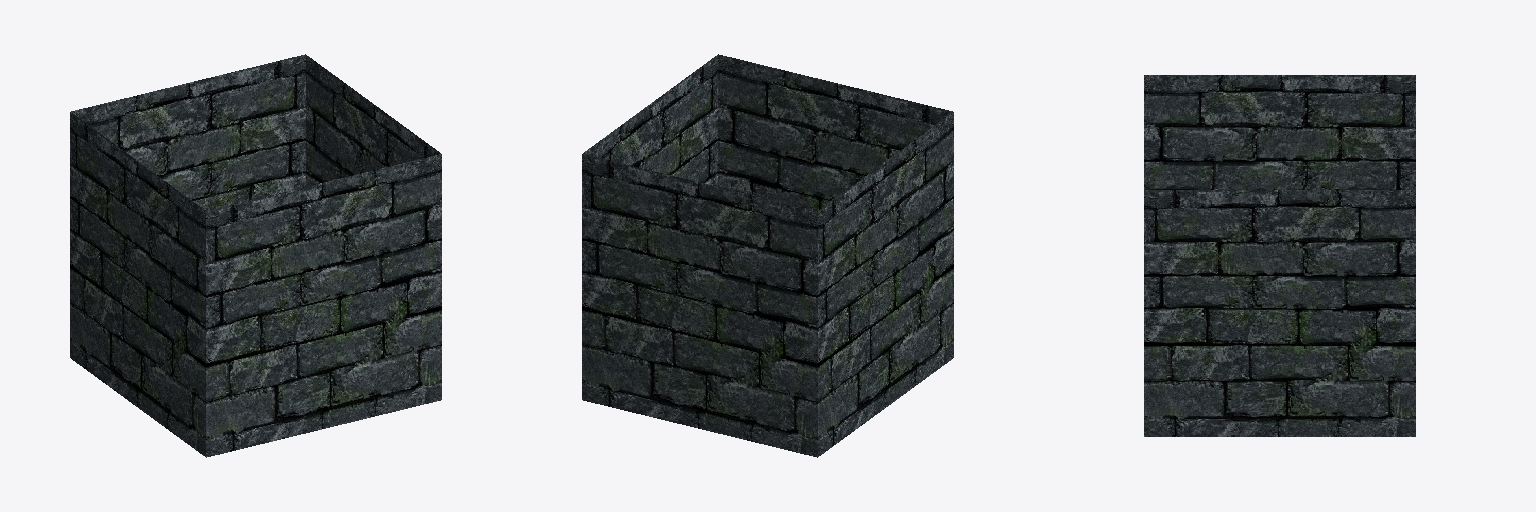
3 views of the same model, side by side, from view 1: azimuth 30°, elevation 25°; view 2: azimuth 150°, elevation 25°; view 3: azimuth 270°, elevation 25° (orthographic).
Visible parts, largest first — view 1: cube; view 2: cube; view 3: cube.
Part boxes in pixels (left/top/right/bottom): cube: left=70, top=54, right=441, bottom=457; cube: left=582, top=54, right=953, bottom=457; cube: left=1144, top=75, right=1415, bottom=436.
Size of the model in its own units: 1 by 1 by 1.
Materials: 1 (1 with a texture image).